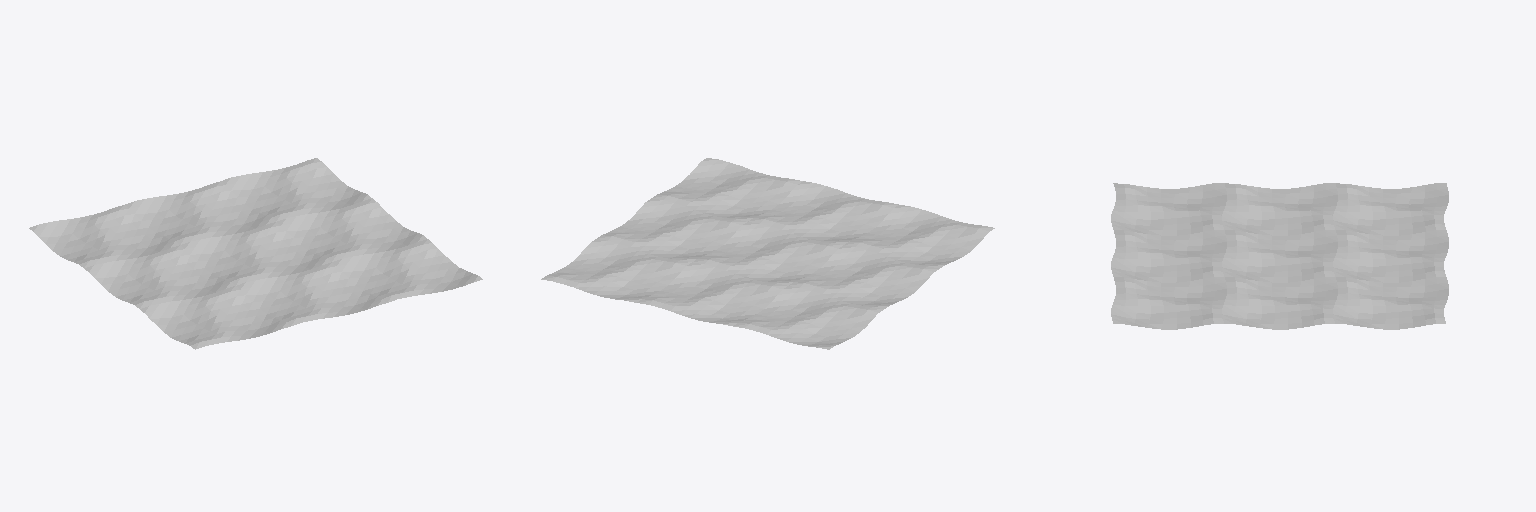
File: ocean_000284.obj
3 views of the same model, side by side, from view 1: azimuth 30°, elevation 25°; view 2: azimuth 150°, elevation 25°; view 3: azimuth 270°, elevation 25° (orthographic).
Parts seen in each view (by area): view 1: Ocean_Plan.001; view 2: Ocean_Plan.001; view 3: Ocean_Plan.001.
Boxes of the visible parts, <box> form: Ocean_Plan.001: <box>29,158,482,349</box>; Ocean_Plan.001: <box>541,158,994,349</box>; Ocean_Plan.001: <box>1111,183,1448,329</box>.
Size of the model in its own units: 109291 by 2419 by 110720.